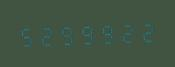five: (17, 22, 36, 48)
nine: (57, 21, 76, 47), (77, 20, 96, 46), (97, 19, 116, 45)
two: (37, 21, 56, 48), (117, 18, 136, 45), (137, 18, 156, 44)
